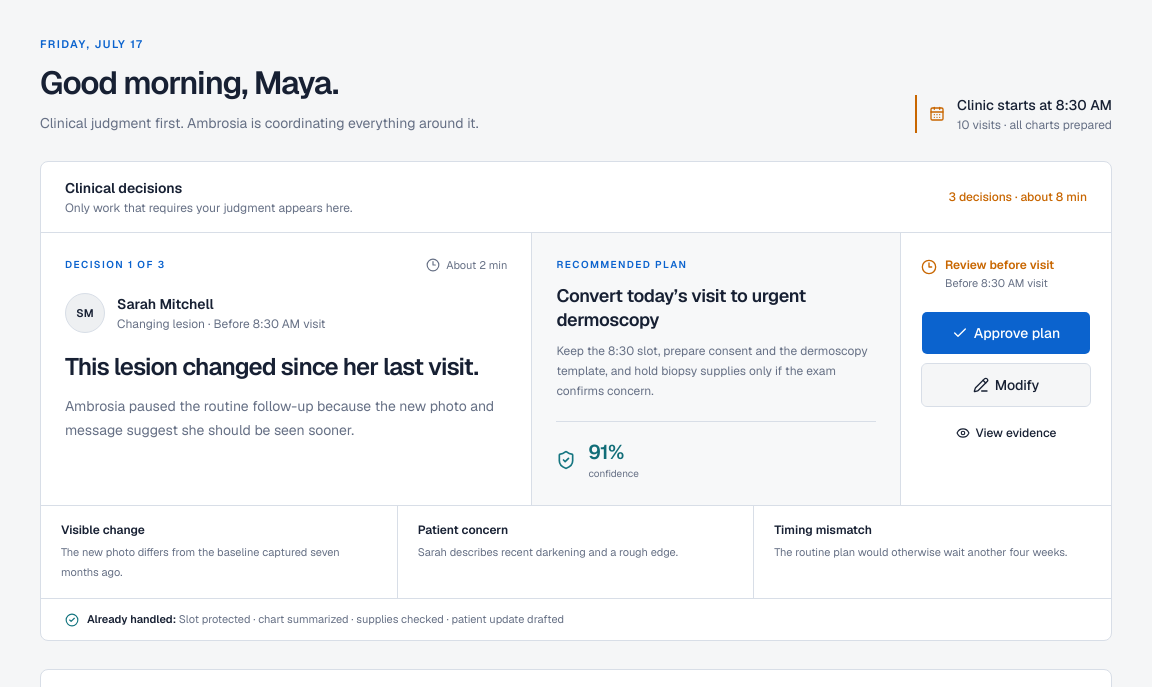
TodayScreen › reveals supporting evidence without leaving the decision
Click the button "View evidence".
click(1006, 433)  # box [921,415,1091,451]
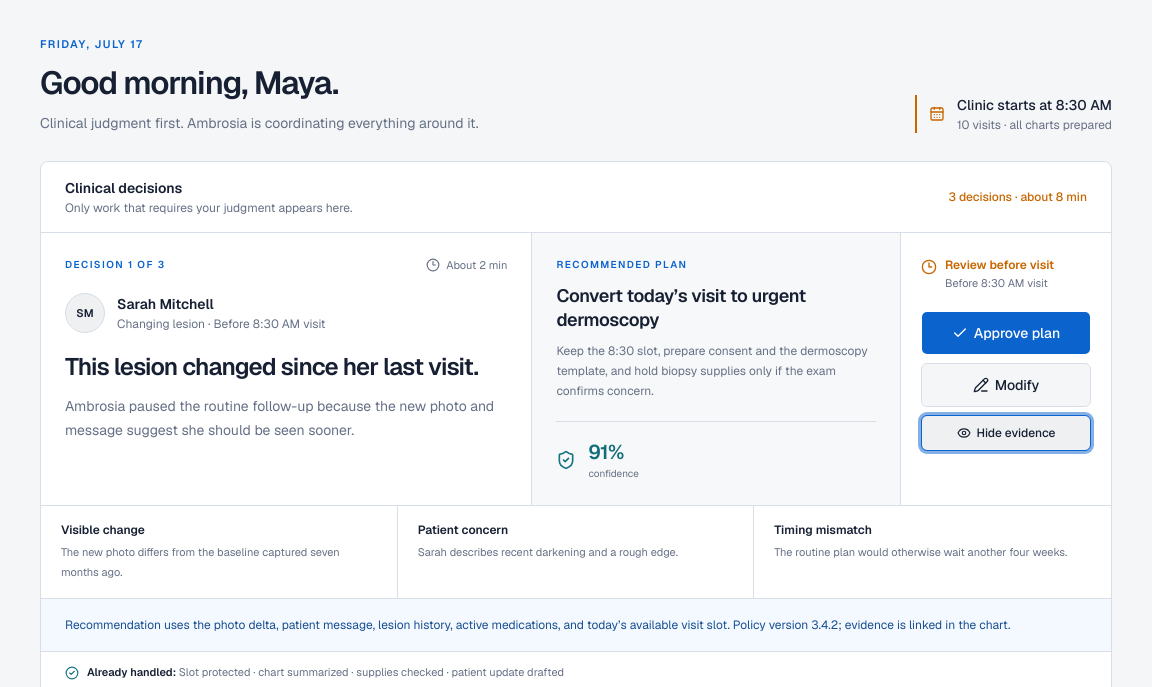
Expected: the text named "Evidence summary" is shown, [41,598,1111,651]
Expected: the button "Hide evidence" is expanded, [921,415,1091,451]
